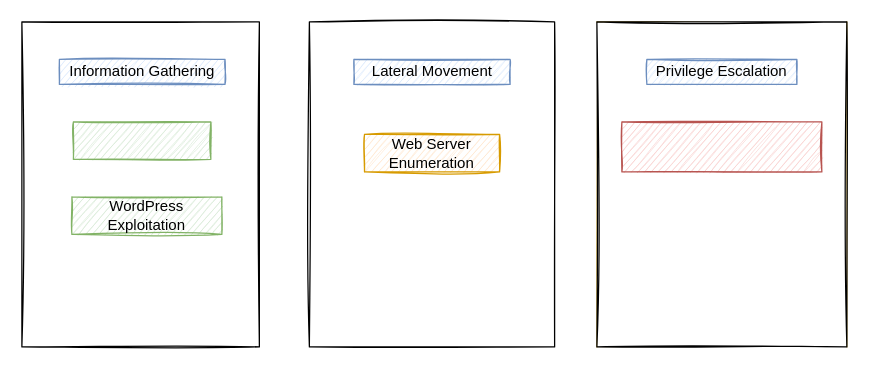
The diagram is 869 pixels wide and 369 high, and some of its shapes have lost their labels. The box of each missing label's shape, as (x1, y1, x2, y2) in pixels:
initctl GTFO Bin Exploitation: (621, 121, 822, 172)
Web Enumeration: (72, 121, 211, 159)
